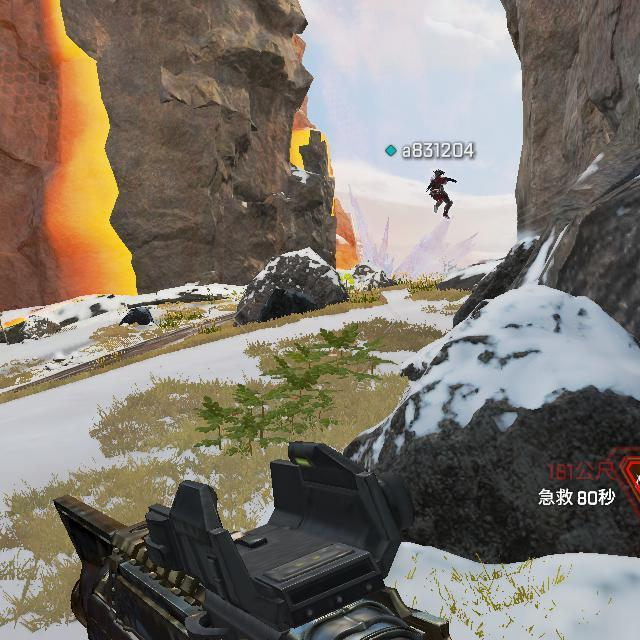avatar: (429, 168, 454, 220)
